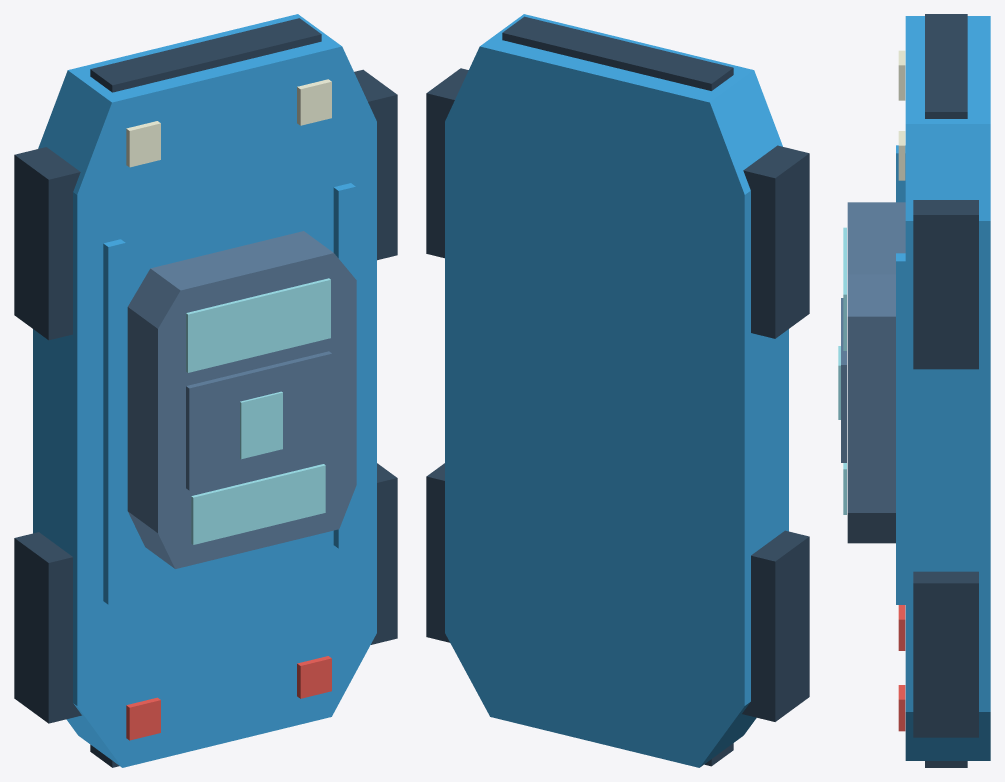
The model's file is Waypoint.glb.
3 views of the same model, side by side, from view 1: azimuth 30°, elevation 25°; view 2: azimuth 150°, elevation 25°; view 3: azimuth 270°, elevation 25° (orthographic). The views are drawn at different scales.
Visible parts, largest first — view 1: Waypoint vehicle cursor; view 2: Waypoint vehicle cursor; view 3: Waypoint vehicle cursor.
Boxes of the visible parts, x1,y1,x2,y2 form: Waypoint vehicle cursor: (14, 14, 397, 767); Waypoint vehicle cursor: (426, 14, 809, 767); Waypoint vehicle cursor: (838, 14, 990, 767).
Size of the model in its own units: 1 by 1.87 by 0.394.
